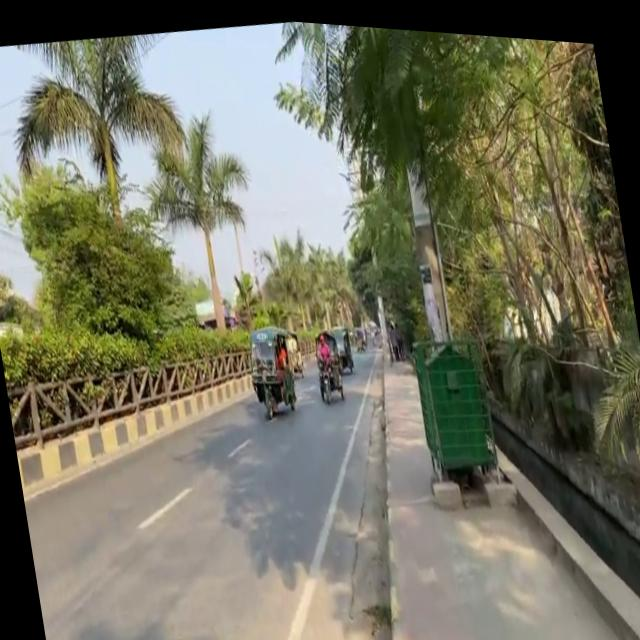Construction-barrier: (486, 372, 640, 640), (308, 332, 432, 640), (16, 374, 240, 492)
Downstairs: (409, 323, 501, 480)
Fallen-tree: (314, 344, 348, 401), (288, 343, 306, 375)
Pothole: (341, 296, 640, 640)
Traffic-cone: (242, 315, 310, 420)
